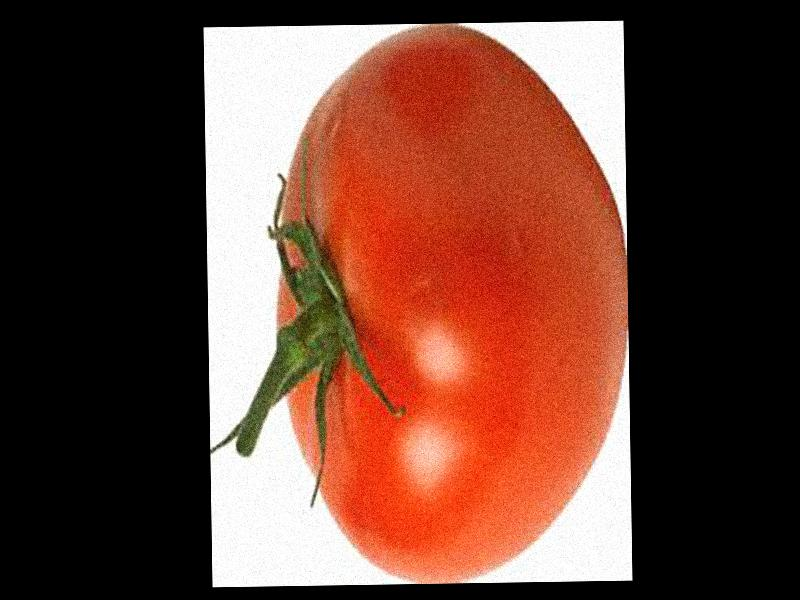Tomato: (269, 20, 627, 583)
